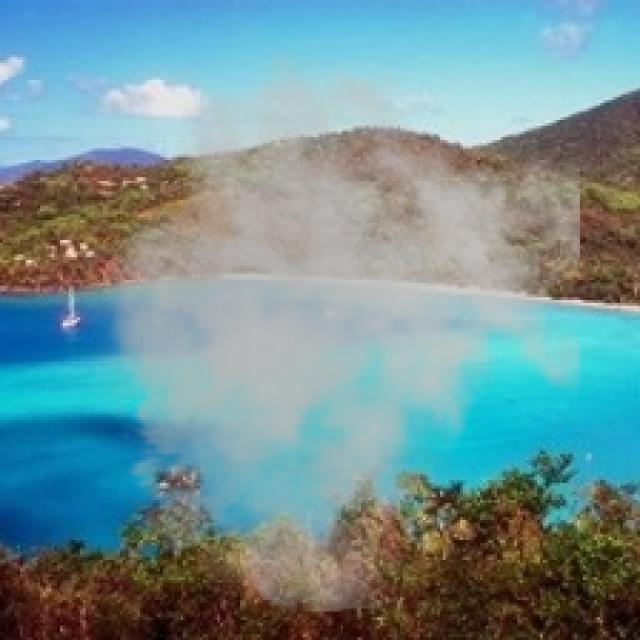Smoke: (60, 46, 580, 614)
